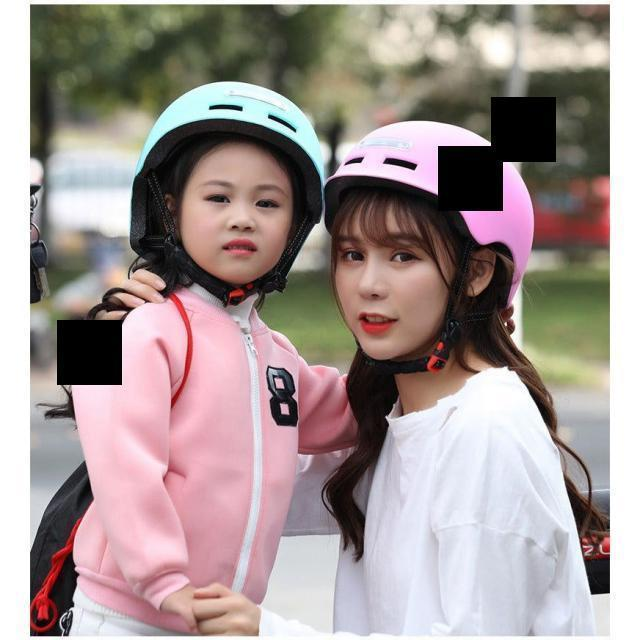helmet: (88, 35, 334, 257), (321, 100, 556, 308)
